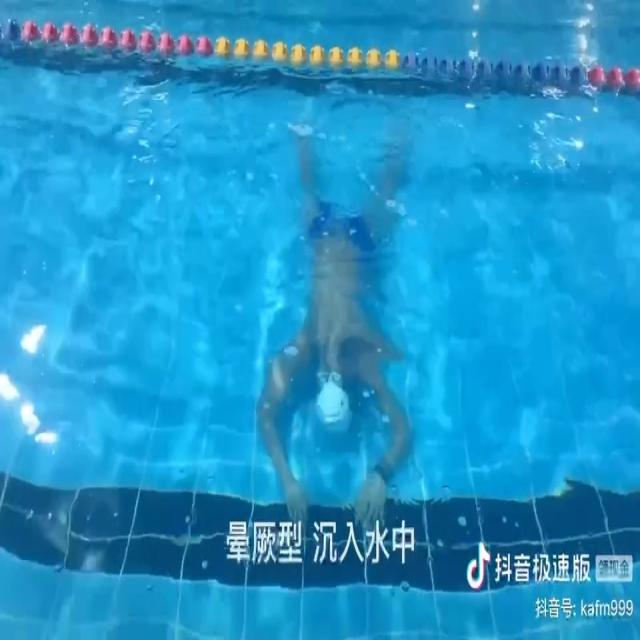Drowning: (259, 128, 412, 533)
